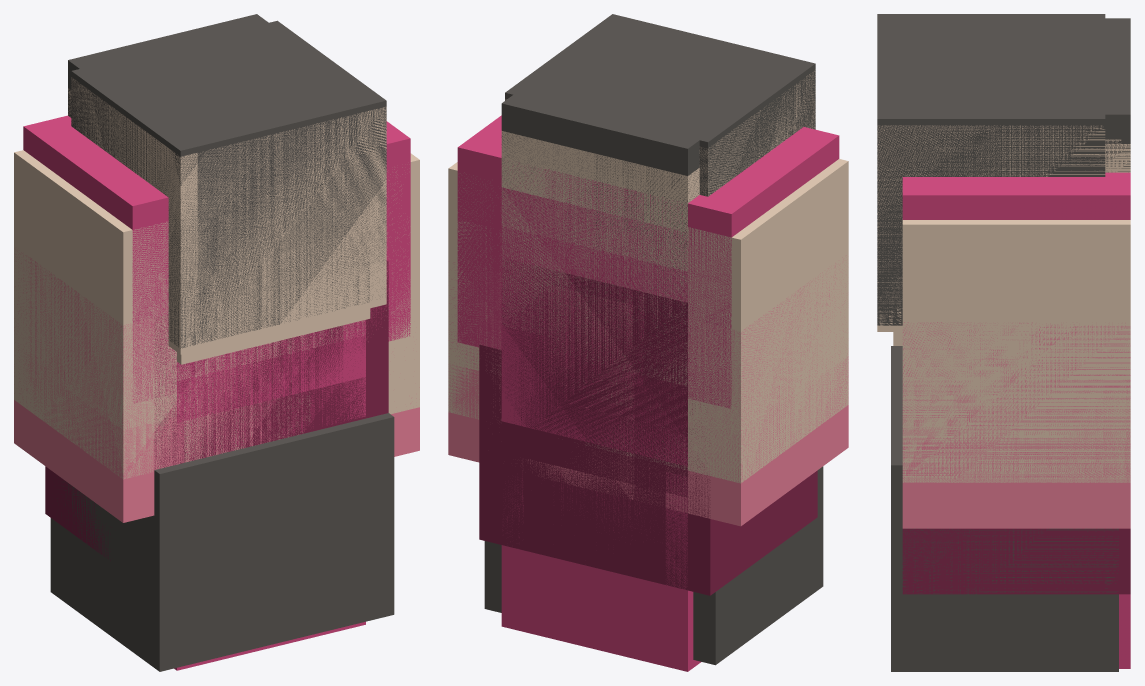
The picture shows the model from 3 angles, left to right: view 1: azimuth 30°, elevation 25°; view 2: azimuth 150°, elevation 25°; view 3: azimuth 270°, elevation 25°; orthographic projection. The views are drawn at different scales.
Parts seen in each view (by area): view 1: RightBrow, RightFoot, LeftEyelid, LeftBrow, LeftUpperArm, LeftHand, LeftFoot, RightEyelid, Hair, LeftForeArm, LeftUpLeg, LeftShoulder (+12 smaller); view 2: Hips, LeftUpperArm, Hair, Spine, LeftBrow, Head, LOD0_High, LeftLeg, LeftForeArm, LeftHand, LeftShoulder, RightLeg (+11 smaller); view 3: RightForeArm, RightUpperArm, RightHand, RightBrow, RightFoot, LeftBrow, Hair, RightLeg, RightShoulder, RightEyelid, LOD0_High, Head.
Boxes of the visible parts, x1=… form: RightBrow: x1=90, y1=20, x2=386, y2=342; RightFoot: x1=200, y1=413, x2=394, y2=660; LeftEyelid: x1=71, y1=77, x2=369, y2=354; LeftBrow: x1=71, y1=32, x2=369, y2=348; LeftUpperArm: x1=14, y1=150, x2=230, y2=429; LeftHand: x1=14, y1=249, x2=310, y2=522; LeftFoot: x1=50, y1=424, x2=348, y2=671; RightEyelid: x1=197, y1=107, x2=386, y2=350; Hair: x1=68, y1=14, x2=365, y2=139; LeftForeArm: x1=14, y1=202, x2=310, y2=479; LeftUpLeg: x1=154, y1=315, x2=343, y2=469; LeftShoulder: x1=23, y1=115, x2=176, y2=403; Hips: x1=501, y1=259, x2=687, y2=497; LeftUpperArm: x1=556, y1=159, x2=848, y2=434; Hair: x1=501, y1=25, x2=794, y2=340; Spine: x1=501, y1=226, x2=687, y2=466; LeftBrow: x1=523, y1=19, x2=815, y2=196; Head: x1=501, y1=131, x2=699, y2=352; LOD0_High: x1=501, y1=457, x2=700, y2=671; LeftLeg: x1=524, y1=403, x2=817, y2=595; LeftForeArm: x1=556, y1=212, x2=848, y2=483; LeftHand: x1=554, y1=255, x2=848, y2=526; LeftShoulder: x1=545, y1=127, x2=839, y2=408; RightLeg: x1=479, y1=344, x2=665, y2=584; RightForeArm: x1=902, y1=276, x2=1130, y2=482; RightUpperArm: x1=902, y1=220, x2=1130, y2=431; RightHand: x1=902, y1=322, x2=1130, y2=528; RightBrow: x1=877, y1=22, x2=1105, y2=325; RightFoot: x1=891, y1=369, x2=1118, y2=671; LeftBrow: x1=877, y1=14, x2=1105, y2=110; Hair: x1=902, y1=18, x2=1130, y2=172; RightLeg: x1=902, y1=528, x2=1130, y2=594; RightShoulder: x1=902, y1=172, x2=1130, y2=219; RightEyelid: x1=877, y1=125, x2=1105, y2=331; LOD0_High: x1=1119, y1=594, x2=1130, y2=668; Head: x1=1105, y1=144, x2=1130, y2=171.
Bounding box in the file's own units: 1.57 × 2.68 × 1.11.
